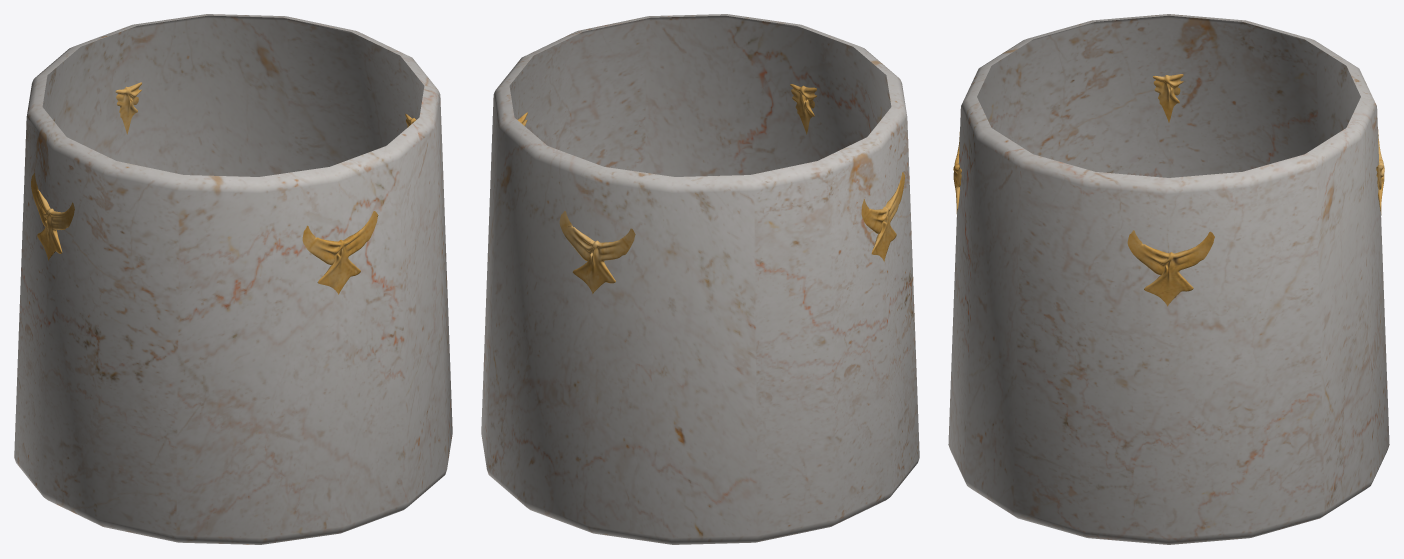
File: Middle.fbx
3 views of the same model, side by side, from view 1: azimuth 30°, elevation 25°; view 2: azimuth 150°, elevation 25°; view 3: azimuth 270°, elevation 25° (orthographic).
Parts seen in each view (by area): view 1: Middle_Baked; view 2: Middle_Baked; view 3: Middle_Baked.
Part boxes in pixels (x1,y1,x2,y2): Middle_Baked: [14, 14, 452, 544]; Middle_Baked: [481, 14, 919, 544]; Middle_Baked: [948, 14, 1389, 544].
Bounding box in the file's own units: 444 × 400 × 444.
1 material, 1 textured.
